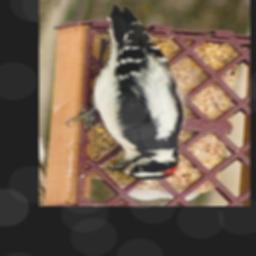Woodpecker: (67, 5, 182, 180)
